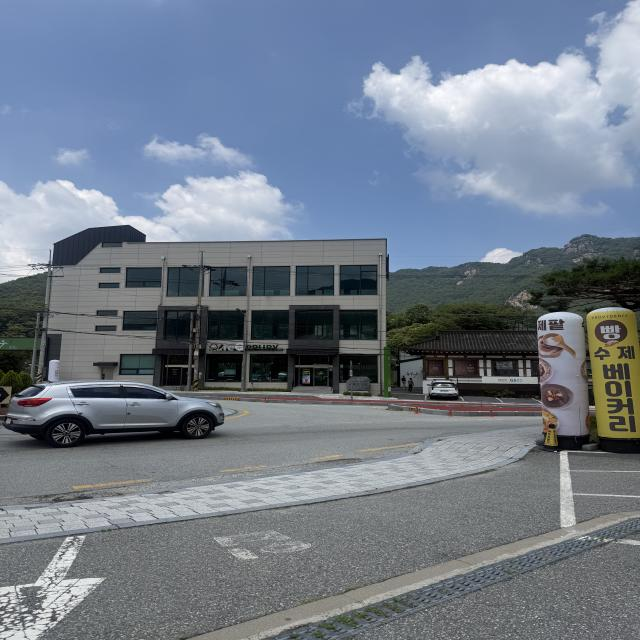car: (6, 378, 226, 447), (417, 379, 472, 404)
